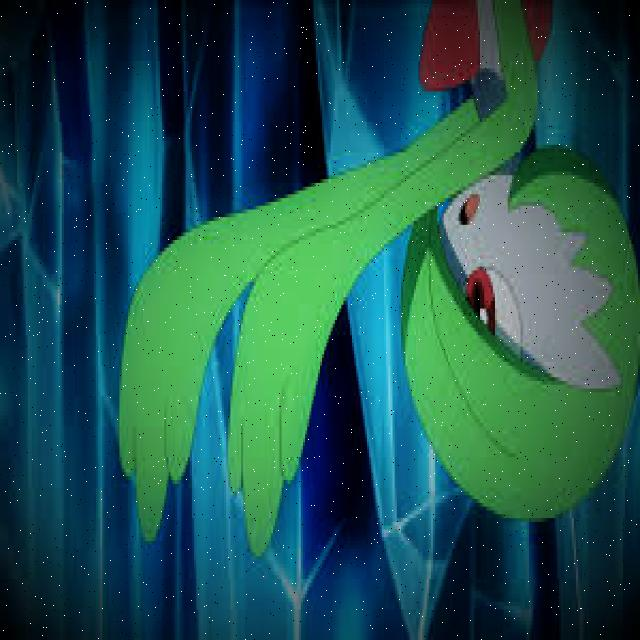gardevoir: (122, 0, 636, 575)
